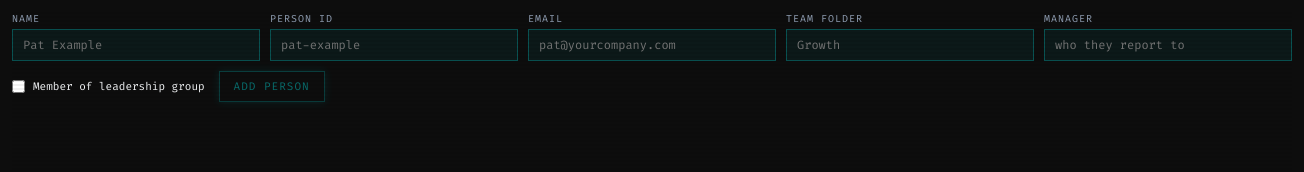
Scenario: a rejected id shows the backend reason
The image size is (1304, 172).
Type "Pat" into the field labelled "Name".
click(136, 45); type("Pat")  # box [12,29,260,61]
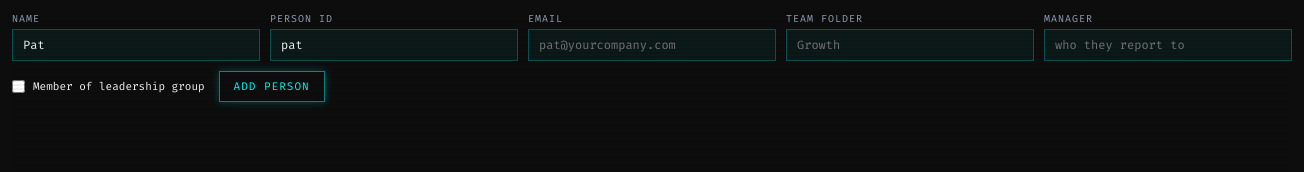
Replace the text in the field labelled "Person id" with "Pat.Example" at (394, 45), box [270,29,518,61]
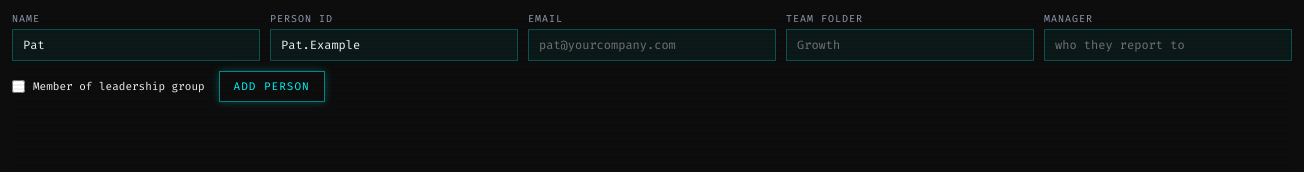
Click the button "Add person".
click(272, 86)  # box [219,71,325,102]
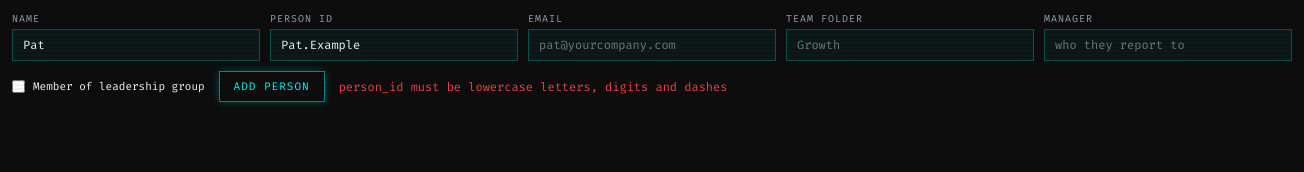
Result: the text "person_id must be lowercase letters, digits and dashes" is shown at [339,78,727,94]
